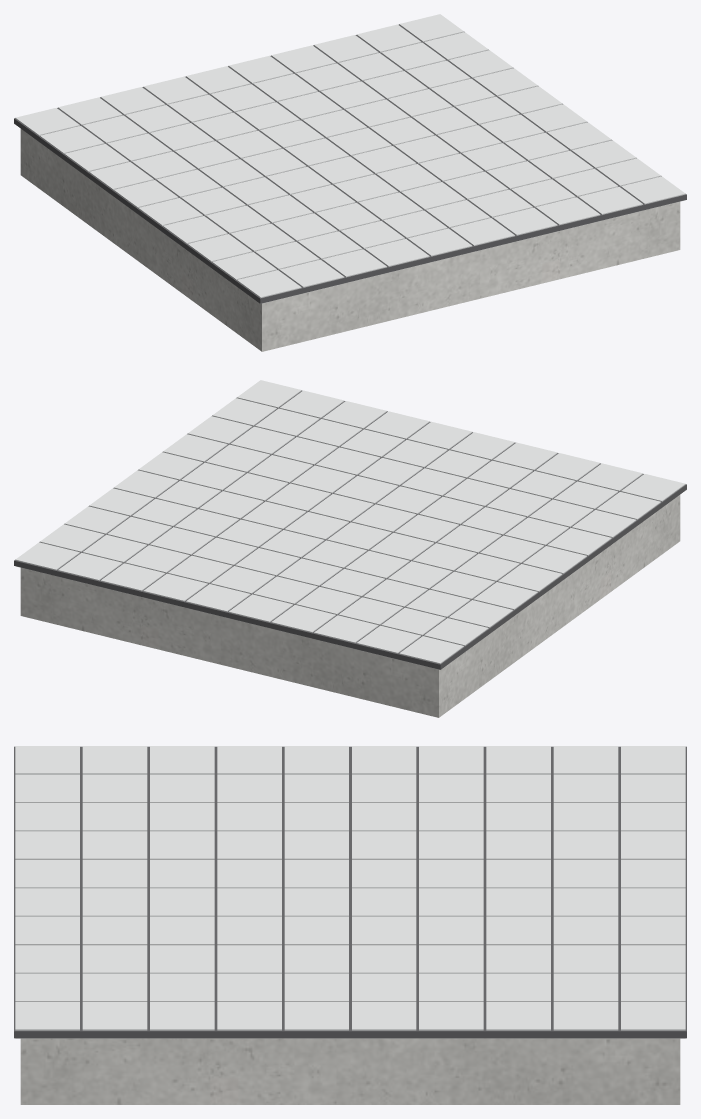
The model's file is floor_wc_u.glb.
3 views of the same model, one above another, from view 1: azimuth 30°, elevation 25°; view 2: azimuth 150°, elevation 25°; view 3: azimuth 270°, elevation 25° (orthographic). The views are drawn at different scales.
Parts seen in each view (by area): view 1: floor_wc_u_tile, floor_wc_u_plaster, floor_wc_u_dark; view 2: floor_wc_u_tile, floor_wc_u_plaster, floor_wc_u_dark; view 3: floor_wc_u_tile, floor_wc_u_plaster, floor_wc_u_dark.
Part boxes in pixels (x1=…): floor_wc_u_tile: x1=15, y1=14, x2=685, y2=303; floor_wc_u_plaster: x1=20, y1=129, x2=680, y2=351; floor_wc_u_dark: x1=14, y1=24, x2=686, y2=303; floor_wc_u_tile: x1=15, y1=380, x2=685, y2=669; floor_wc_u_plaster: x1=20, y1=495, x2=680, y2=717; floor_wc_u_dark: x1=14, y1=390, x2=686, y2=669; floor_wc_u_tile: x1=15, y1=746, x2=685, y2=1038; floor_wc_u_plaster: x1=20, y1=1038, x2=680, y2=1104; floor_wc_u_dark: x1=14, y1=746, x2=686, y2=1038.
Size of the model in its own units: 2 by 0.255 by 2.
3 materials, 1 textured.
